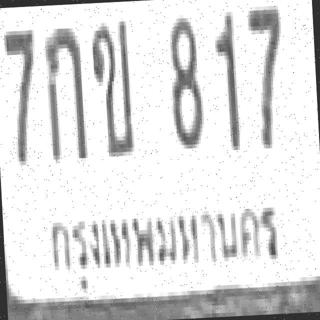A01: (42, 24, 86, 160)
A02: (88, 16, 134, 156)
N01: (211, 8, 240, 151)
N07: (245, 2, 285, 145), (1, 27, 38, 162)
N08: (164, 10, 203, 146)
P04: (42, 198, 294, 292)
